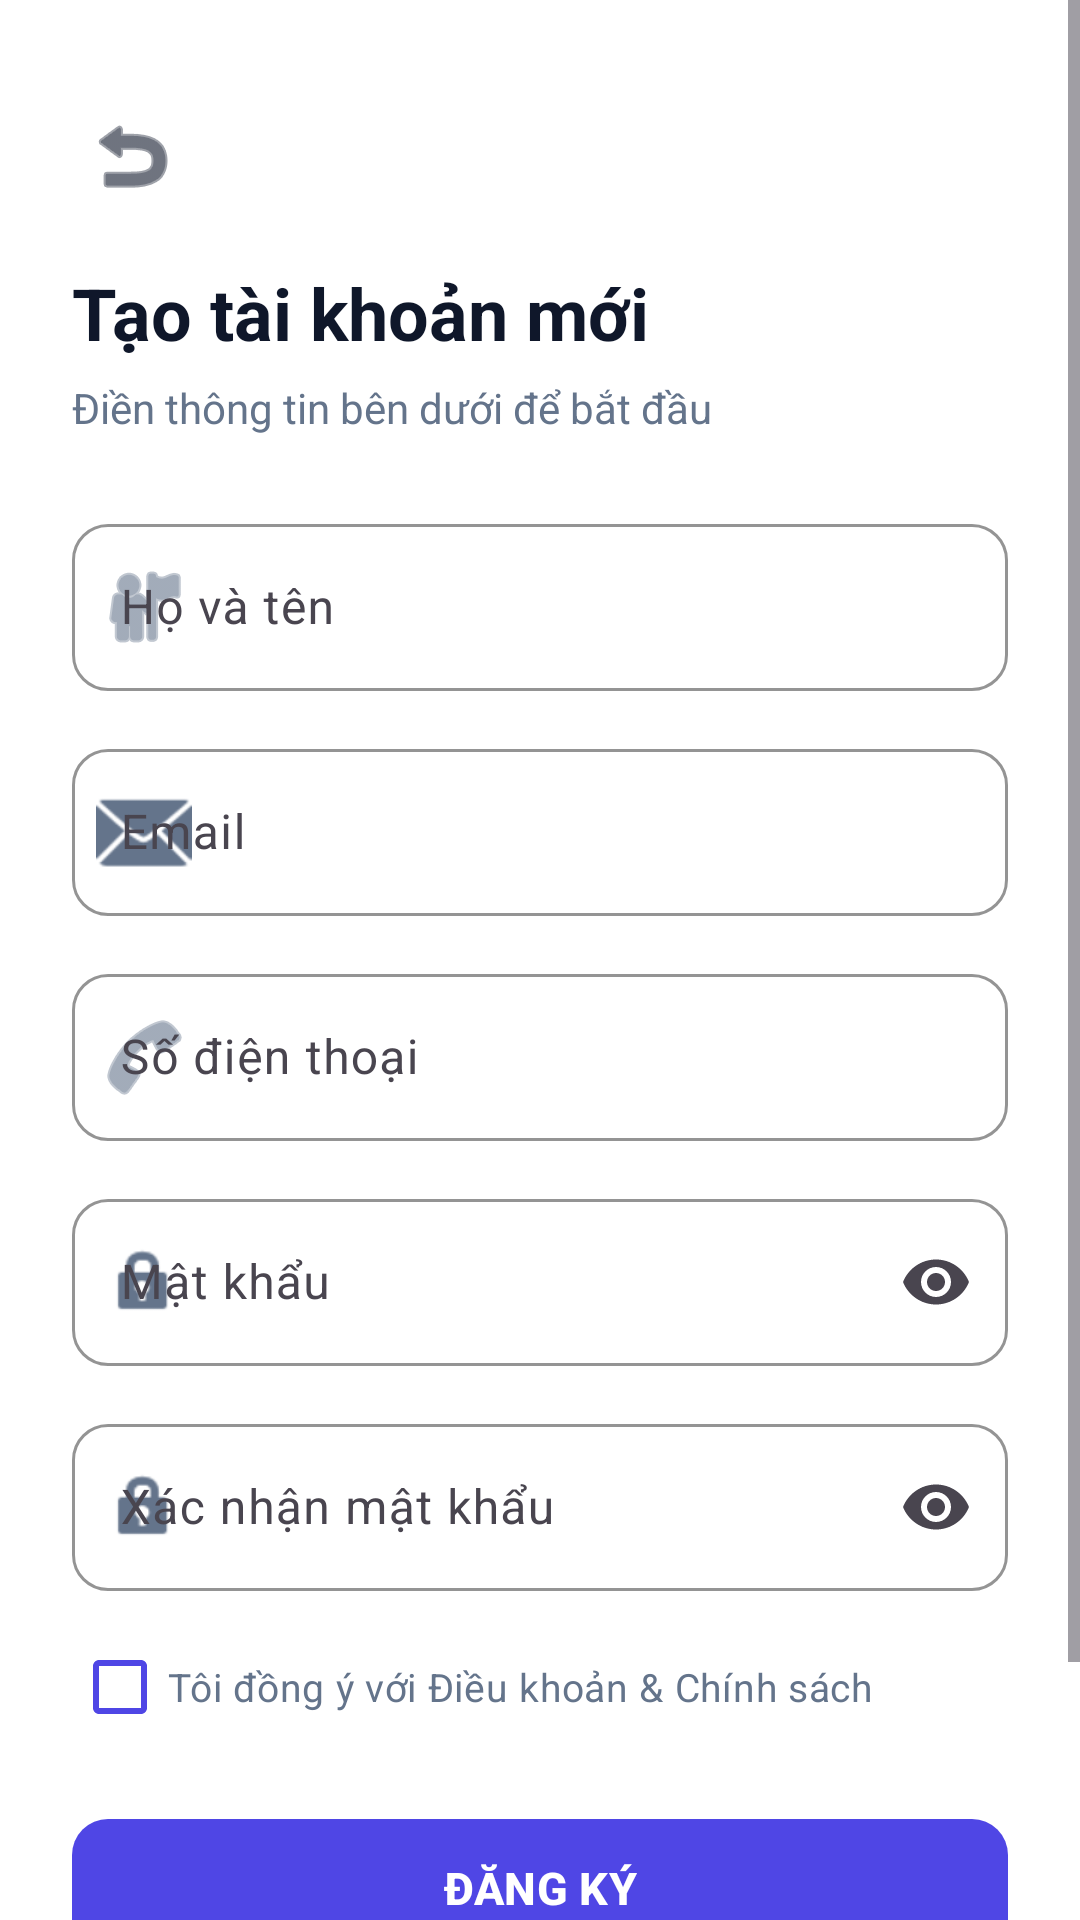

Where icons sit on this 1080x1920 app screen, as BBox(x1, y1, x2, y2):
Quay lại: BBox(99, 125, 168, 188)
